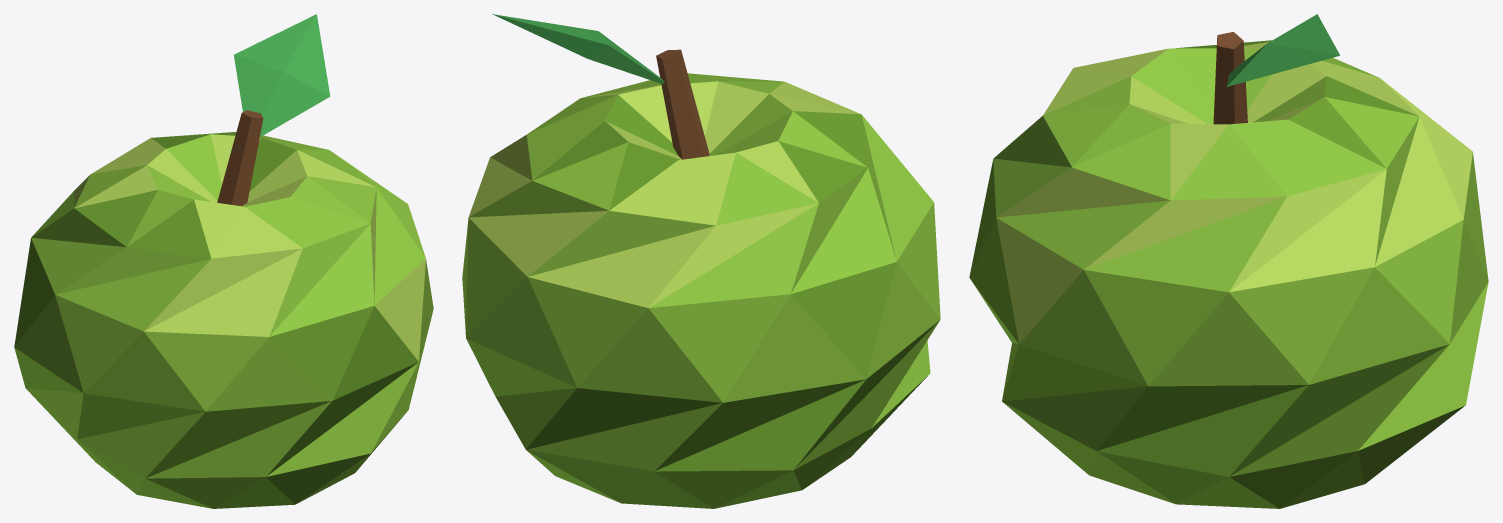
Rendered from Apple_Green.glb.
3 renders of one model, left to right at view 1: azimuth 30°, elevation 25°; view 2: azimuth 150°, elevation 25°; view 3: azimuth 270°, elevation 25°, orthographic. The views are drawn at different scales.
Visible parts, largest first — view 1: Apple_Green_Mesh; view 2: Apple_Green_Mesh; view 3: Apple_Green_Mesh.
Boxes of the visible parts, left/top/right/bottom form: Apple_Green_Mesh: left=14, top=14, right=433, bottom=508; Apple_Green_Mesh: left=462, top=14, right=940, bottom=508; Apple_Green_Mesh: left=969, top=14, right=1488, bottom=508.
Bounding box in the file's own units: 0.353 × 0.3769 × 0.3558.
1 material, 1 textured.
